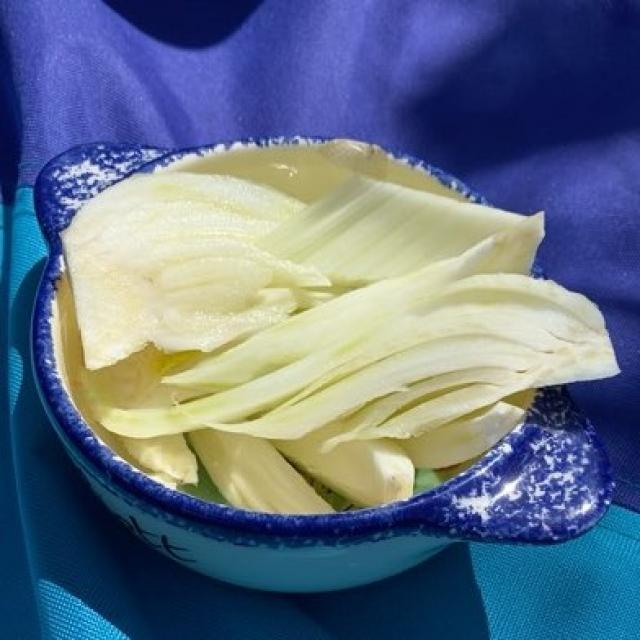cake: (66, 142, 605, 508)
